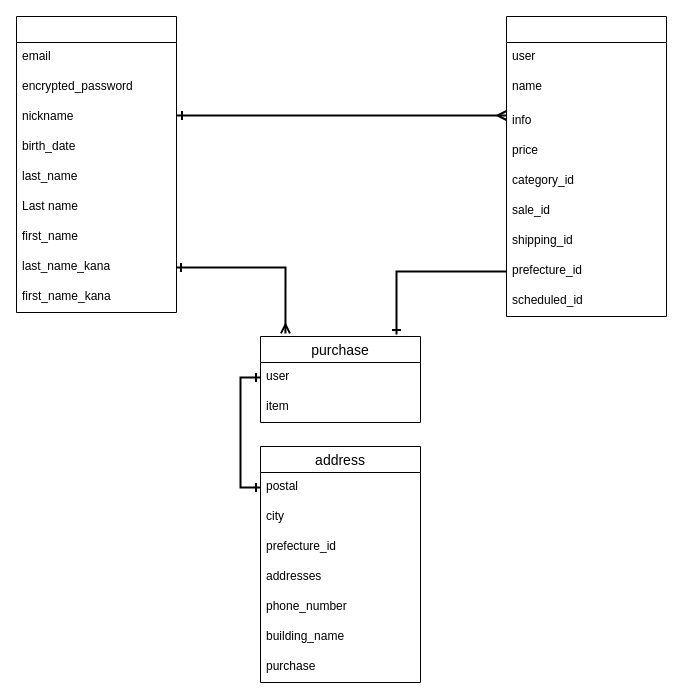
Some shapes in this 683 by 699 pixel diagram are drawn without their labels. Here are the shapes that lost their labels. From the top down, the box of each, then its label:
(16, 16, 176, 312): users
(506, 16, 666, 316): items
